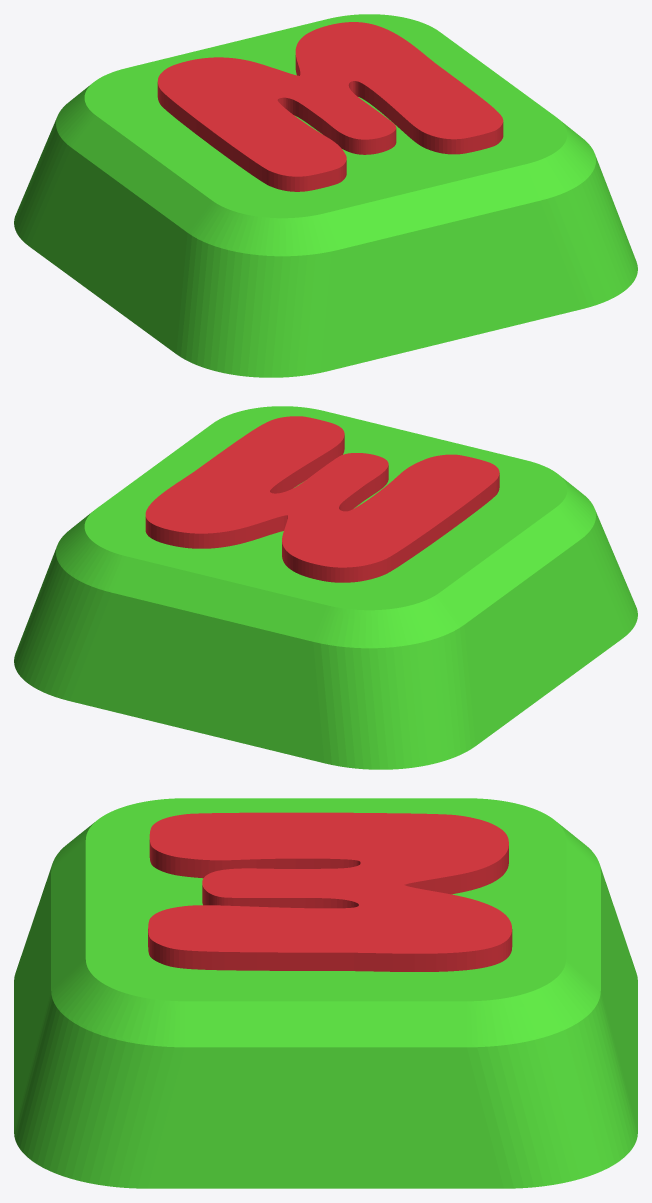
3 views of the same model, one above another, from view 1: azimuth 30°, elevation 25°; view 2: azimuth 150°, elevation 25°; view 3: azimuth 270°, elevation 25° (orthographic). The views are drawn at different scales.
Visible parts, largest first — view 1: CAPS_M, FONT_M; view 2: CAPS_M, FONT_M; view 3: CAPS_M, FONT_M.
Boxes of the visible parts, x1,y1,x2,y2 form: CAPS_M: (14, 14, 637, 377); FONT_M: (157, 22, 503, 191); CAPS_M: (14, 406, 637, 769); FONT_M: (145, 416, 499, 582); CAPS_M: (14, 798, 637, 1188); FONT_M: (148, 812, 512, 971).
Bounding box in the file's own units: 18 × 5.59 × 18.
